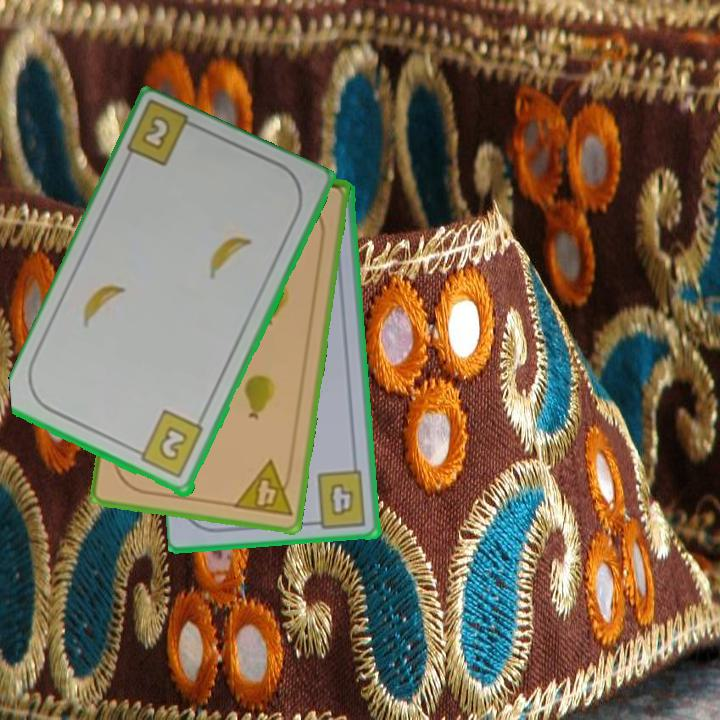2b: (130, 407, 206, 482), (137, 112, 174, 154)
4b: (307, 467, 369, 531)
4p: (230, 457, 296, 520)
